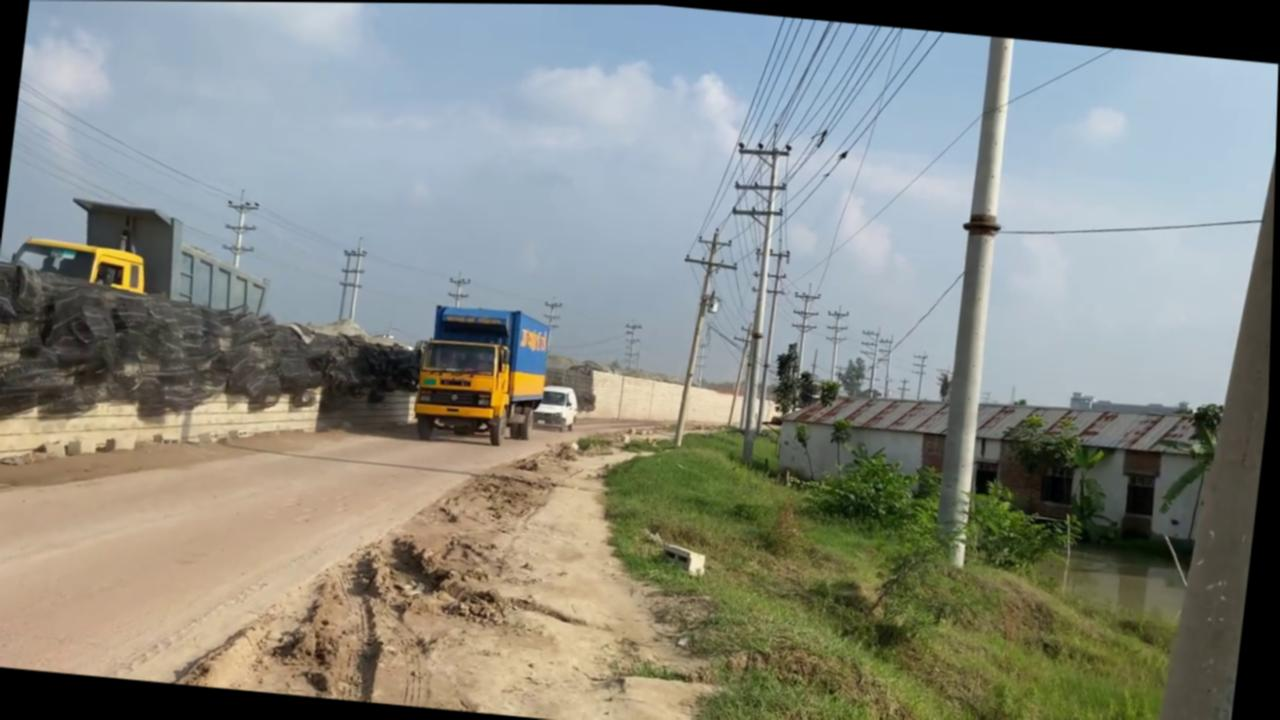Car: (533, 382, 582, 432)
Fence: (582, 367, 785, 435)
Garbage: (0, 257, 430, 451)
Obstacle: (663, 541, 711, 576)
Pole: (1151, 57, 1279, 720), (929, 34, 1025, 567)
Rickshaw: (224, 370, 750, 720)
Sidewalk: (1052, 543, 1194, 628)
Tree: (410, 299, 556, 450), (0, 234, 153, 336), (8, 235, 152, 294)
